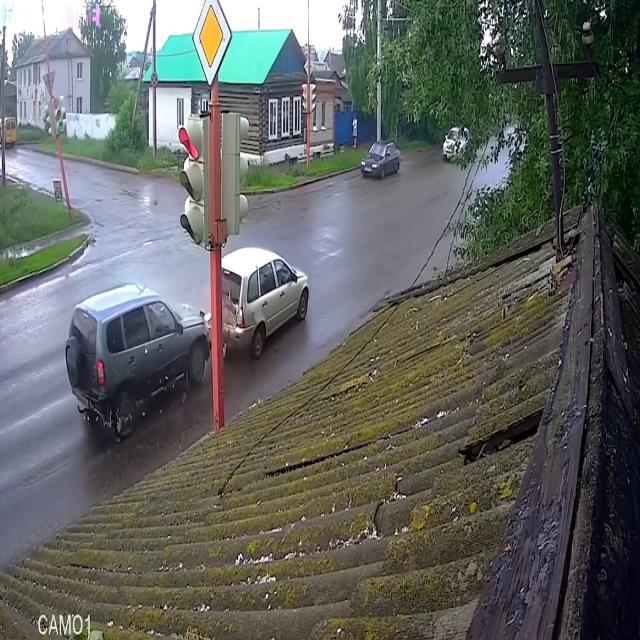Accident: (58, 234, 320, 436)
